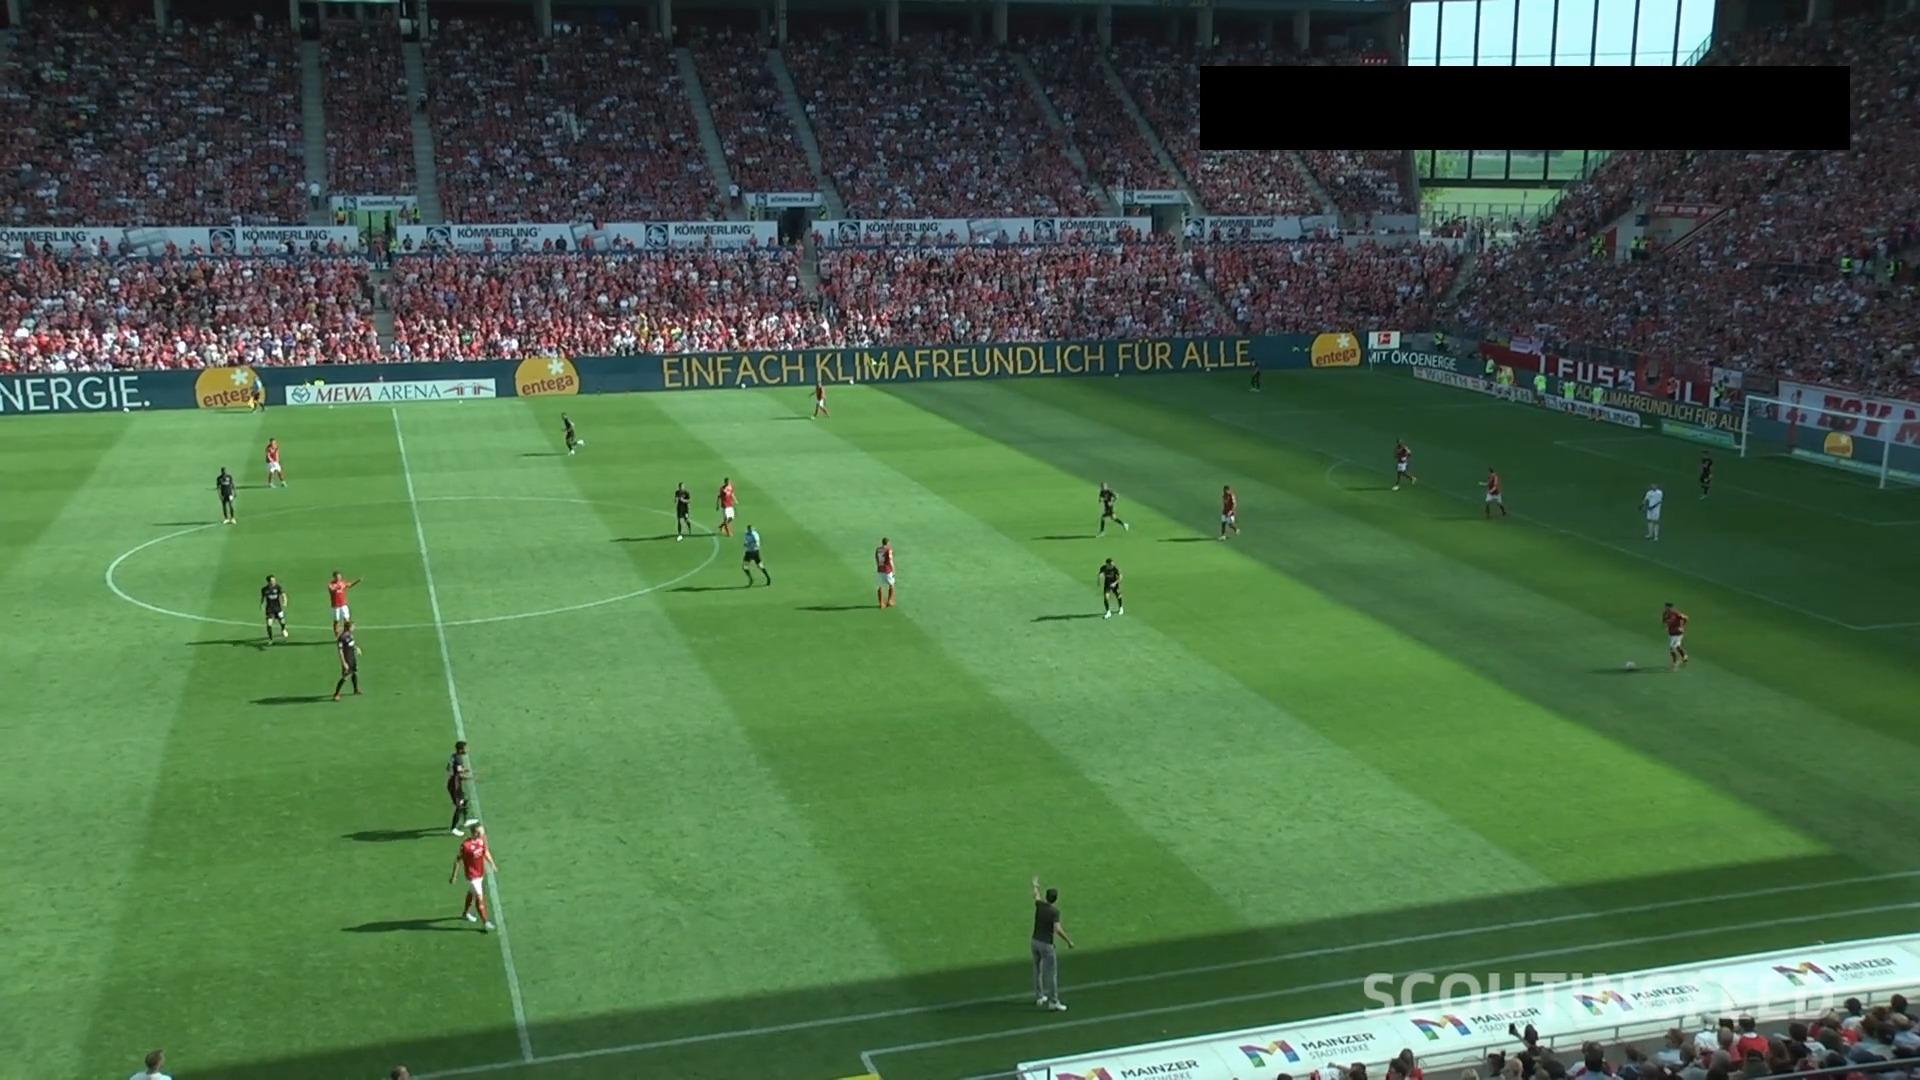ball: (1625, 661, 1636, 673)
